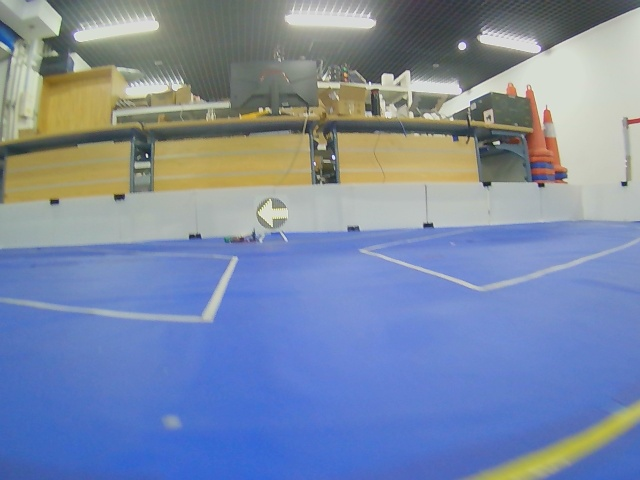left_yellow: (256, 198, 288, 229)
